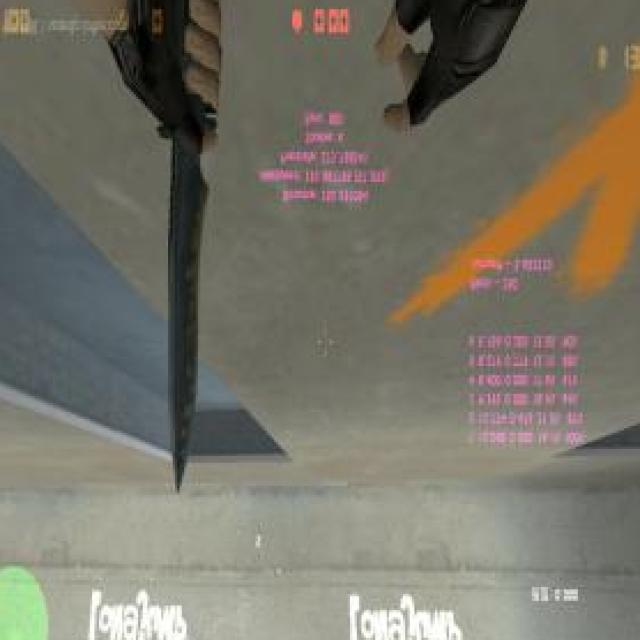knife: (161, 0, 219, 500)
